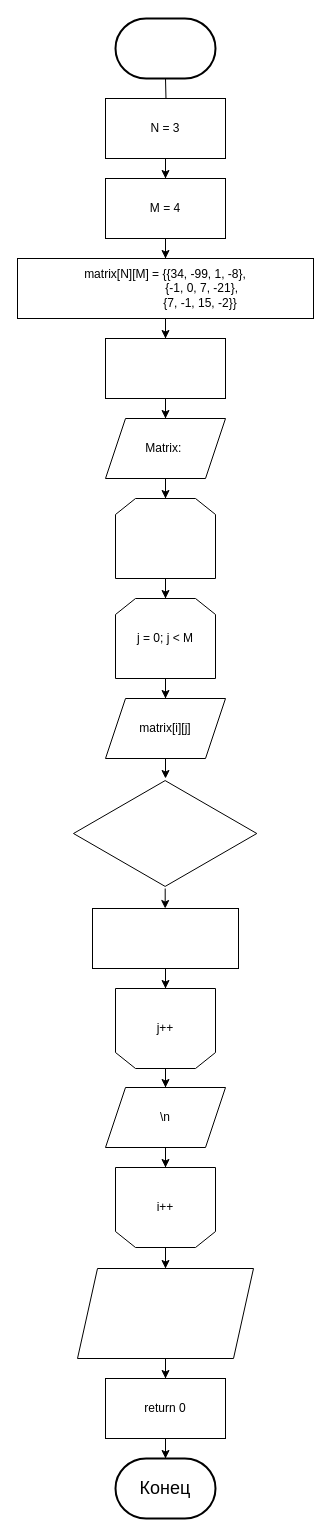
This 331x1536 diagram has some shape labels left out. The shapes that lost their labels are listed below. From the top down, each one's box as (x1, y1, x2, y2) in pixels, then its label:
(114, 17, 216, 79): Начало
(104, 338, 226, 398): sumMinus = 0
(114, 498, 216, 578): i = 0; i < N
(72, 778, 257, 888): j > N - i - 1 && matrix[i][j] < 0
(92, 908, 238, 968): sumMinus += matrix[i][j]
(76, 1268, 254, 1358): Sum of negative elements above the secondary diagonal
